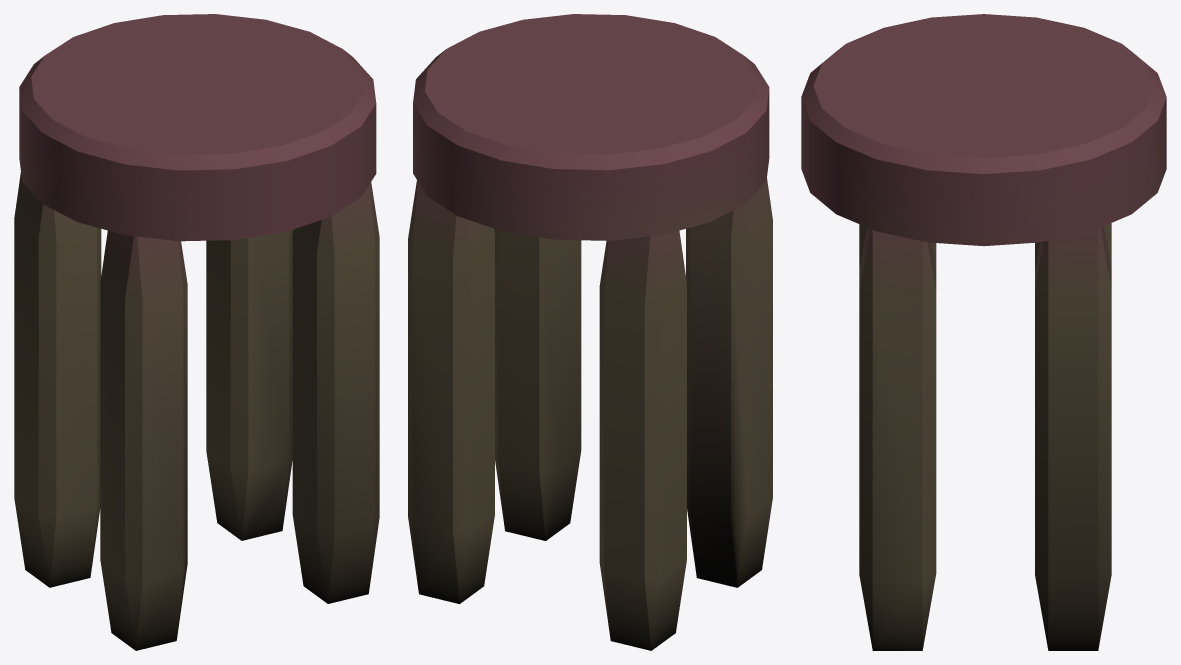
Rendered from Stool.fbx.
The picture shows the model from 3 angles, left to right: view 1: azimuth 30°, elevation 25°; view 2: azimuth 150°, elevation 25°; view 3: azimuth 270°, elevation 25°; orthographic projection.
Visible parts, largest first — view 1: Cube.003; view 2: Cube.003; view 3: Cube.003.
Part boxes in pixels (bbox=[...]): Cube.003: bbox=[14, 14, 379, 650]; Cube.003: bbox=[408, 14, 772, 650]; Cube.003: bbox=[801, 14, 1166, 650].
Size of the model in its own units: 200 by 306 by 200.
